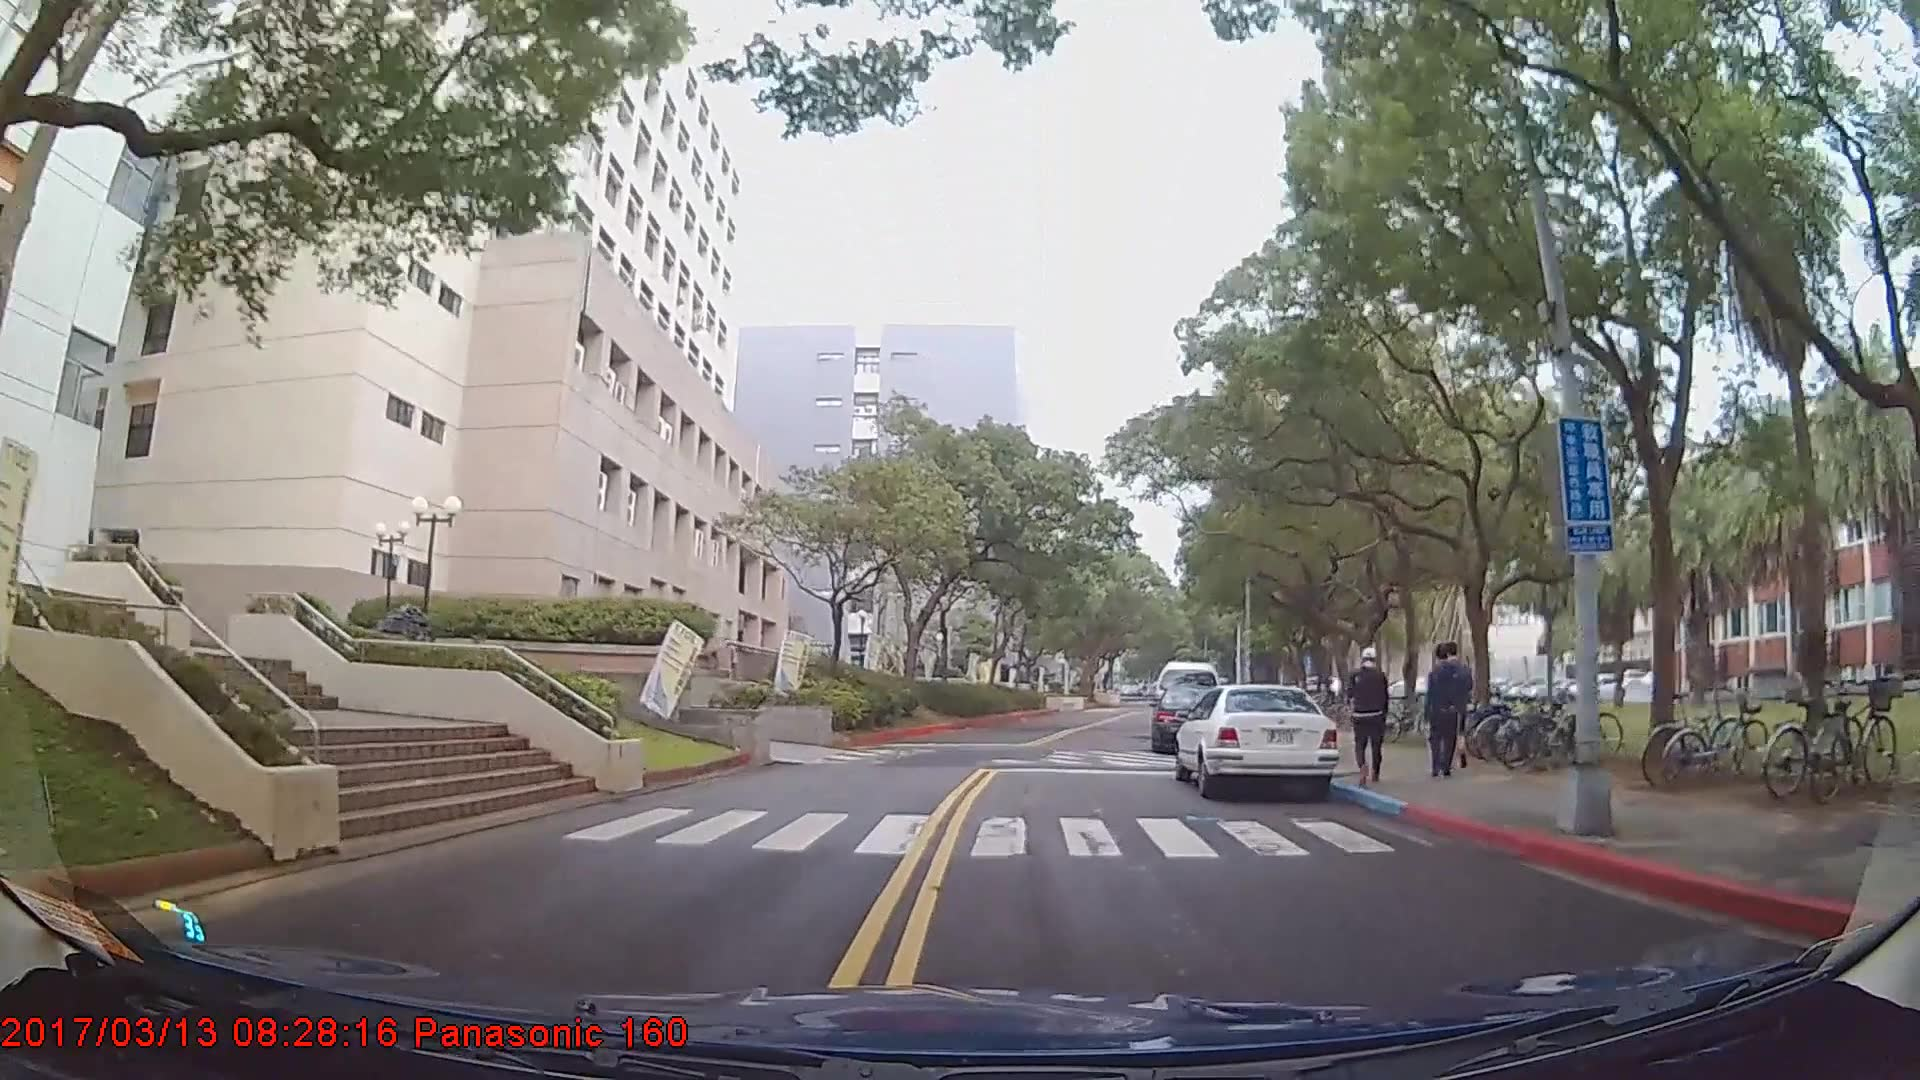pedestrian: (1423, 641, 1474, 786), (1345, 645, 1393, 788)
vehicle: (1174, 684, 1340, 801)
